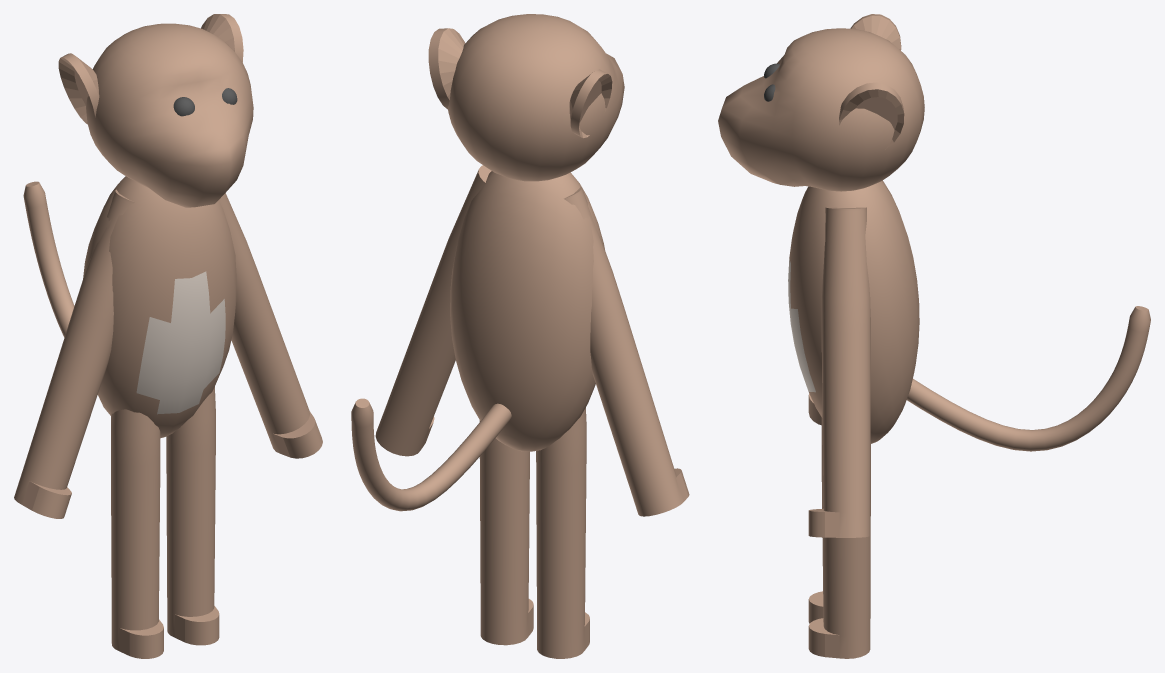
Rendered from Monkey.fbx.
3 renders of one model, left to right at view 1: azimuth 30°, elevation 25°; view 2: azimuth 150°, elevation 25°; view 3: azimuth 270°, elevation 25°, orthographic. The views are drawn at different scales.
Parts seen in each view (by area): view 1: pSphere25, pSphere26, pCylinder30, pCylinder28, pCylinder29, pCylinder31, pCylinder32, pCylinder33, pCylinder34; view 2: pSphere25, pSphere26, pCylinder30, pCylinder28, pCylinder29, pCylinder31, pCylinder32, pCylinder34, pCylinder33; view 3: pSphere26, pSphere25, pCylinder31, pCylinder32, pCylinder29, pCylinder34, pCylinder33.
Boxes of the visible parts, box(x1,y1,x2,y2) form: pSphere25: box(83, 176, 236, 438); pSphere26: box(85, 23, 253, 207); pCylinder30: box(14, 189, 134, 518); pCylinder28: box(111, 409, 163, 658); pCylinder29: box(166, 387, 219, 645); pCylinder31: box(219, 193, 322, 458); pCylinder32: box(23, 181, 74, 337); pCylinder33: box(58, 53, 99, 124); pCylinder34: box(201, 14, 243, 62); pSphere25: box(450, 171, 604, 451); pSphere26: box(448, 14, 624, 181); pCylinder30: box(564, 186, 689, 516); pCylinder28: box(536, 407, 589, 658); pCylinder29: box(479, 420, 533, 645); pCylinder31: box(375, 165, 491, 456); pCylinder32: box(351, 398, 511, 511); pCylinder34: box(428, 28, 465, 109); pCylinder33: box(569, 69, 612, 138); pSphere26: box(718, 28, 924, 191); pSphere25: box(788, 180, 919, 443); pCylinder31: box(808, 207, 870, 537); pCylinder32: box(907, 306, 1150, 451); pCylinder29: box(808, 414, 870, 658); pCylinder34: box(839, 82, 904, 149); pCylinder33: box(850, 14, 901, 50).
Size of the model in its own units: 2.67 by 5.18 by 3.4.
